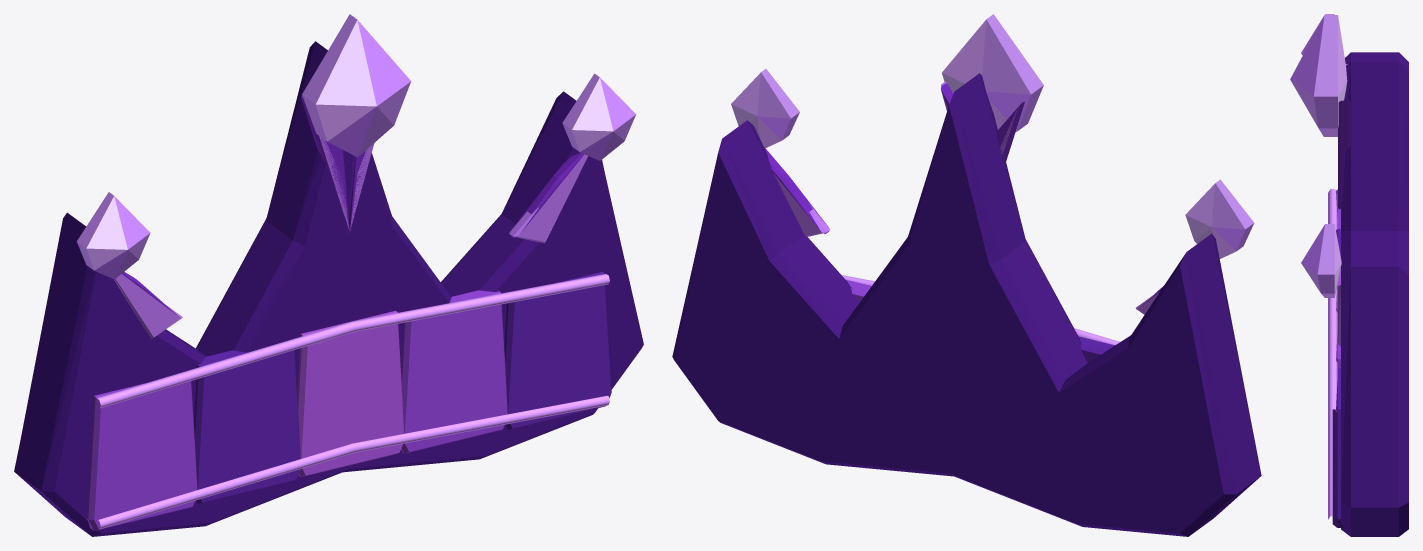
Rendered from crown-low.glb.
The picture shows the model from 3 angles, left to right: view 1: azimuth 30°, elevation 25°; view 2: azimuth 150°, elevation 25°; view 3: azimuth 270°, elevation 25°; orthographic projection. The views are drawn at different scales.
Visible parts, largest first — view 1: Three-point crown shell, Segmented band plate 3, Segmented band plate 4, Segmented band plate 2, Segmented band plate 1, Segmented band plate 5, Center tip diamond, Band upper rail, Band lower rail, Left tip diamond, Right tip diamond, Tine facet 7 (+3 smaller); view 2: Three-point crown shell, Center tip diamond, Left tip diamond, Right tip diamond, Tine facet 7, Tine facet 8; view 3: Three-point crown shell, Center tip diamond, Right tip diamond, Band upper rail, Segmented band plate 5, Tine facet 6, Band lower rail, Tine facet 7.
Part boxes in pixels (x1,y1,x2,y2): Three-point crown shell: [14, 41, 643, 536]; Segmented band plate 3: [297, 310, 403, 476]; Segmented band plate 4: [401, 290, 507, 453]; Segmented band plate 2: [194, 350, 300, 503]; Segmented band plate 1: [86, 381, 197, 530]; Segmented band plate 5: [504, 271, 611, 429]; Center tip diamond: [302, 14, 411, 157]; Band upper rail: [97, 274, 609, 408]; Band lower rail: [98, 395, 609, 529]; Left tip diamond: [77, 192, 150, 279]; Right tip diamond: [562, 73, 635, 160]; Tine facet 7: [509, 154, 587, 243]; Three-point crown shell: [672, 73, 1261, 536]; Center tip diamond: [942, 14, 1043, 131]; Left tip diamond: [1185, 179, 1254, 258]; Right tip diamond: [731, 69, 799, 148]; Tine facet 7: [774, 174, 829, 236]; Tine facet 8: [764, 147, 829, 233]; Three-point crown shell: [1341, 52, 1408, 536]; Center tip diamond: [1290, 15, 1347, 136]; Right tip diamond: [1301, 224, 1341, 297]; Band upper rail: [1328, 189, 1337, 412]; Segmented band plate 5: [1332, 368, 1344, 527]; Tine facet 6: [1338, 100, 1351, 208]; Band lower rail: [1328, 409, 1332, 519]; Tine facet 7: [1338, 285, 1340, 346].
Size of the model in its own units: 1.54 by 1.18 by 0.2968.
